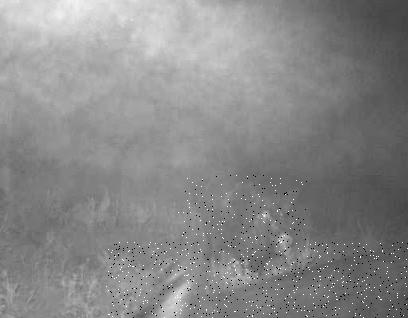Hog: (106, 242, 408, 318), (178, 175, 307, 275)
